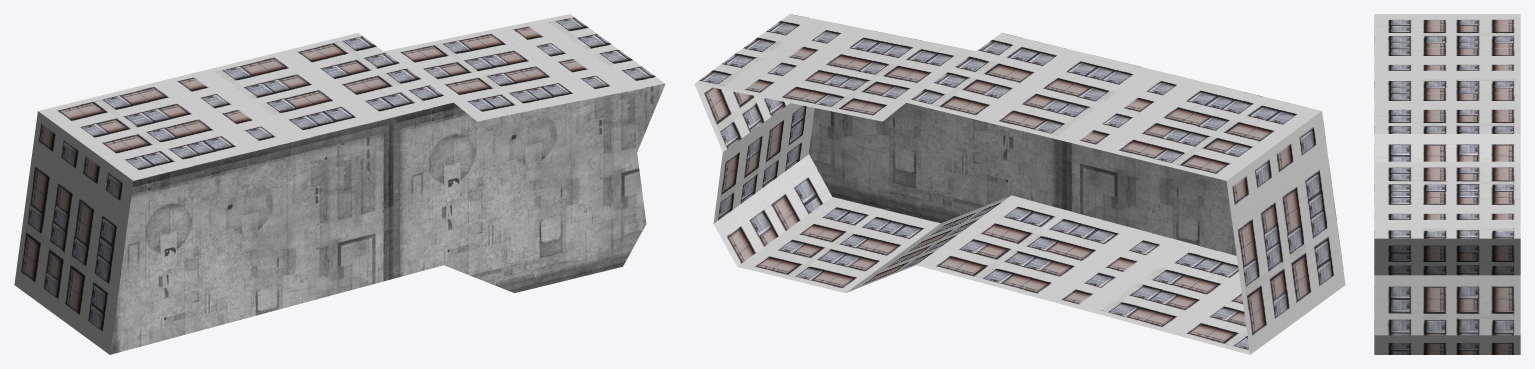
File: building-76.obj
3 views of the same model, side by side, from view 1: azimuth 30°, elevation 25°; view 2: azimuth 150°, elevation 25°; view 3: azimuth 270°, elevation 25° (orthographic). The views are drawn at different scales.
Bounding box in the file's own units: 35.41 × 12.5 × 10.54.
